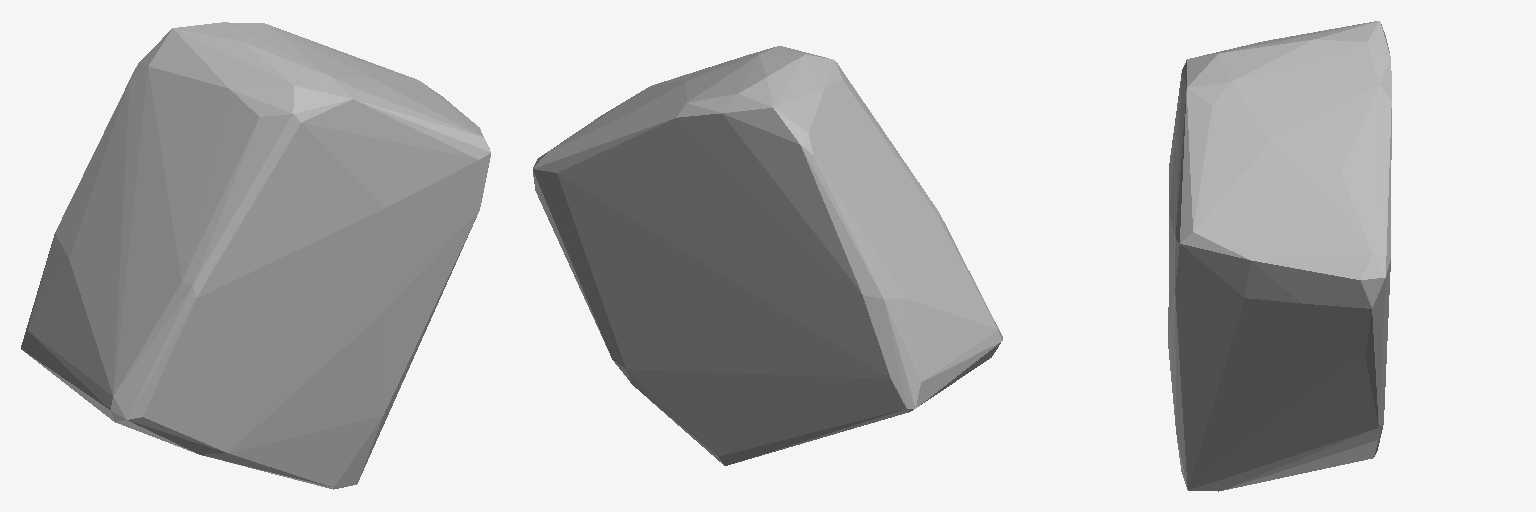
The robot description file, URDF, robot "root":
<robot name="root">
  <link name="link_rock8_convex_piece_0">
    <inertial>
      <origin rpy="0 0 0" xyz="0 0 0"/>
      <mass value="6.99E+05"/>
      <inertia ixx="-2.49E+08" ixy="-2.63E+07" ixz="1.72E+08" iyy="6.34E+08" iyz="5.44E+08" izz="7.29E+08"/>
    </inertial>
    <visual>
      <origin rpy="0 0 0" xyz="0 0 0"/>
      <geometry>
        <mesh filename="rock8_convex_piece_0.obj" scale="1.0000E+00 1.0000E+00 1.0000E+00"/>
      </geometry>
      <material name="">
        <color rgba="7.50E-01 7.50E-01 7.50E-01 1"/>
      </material>
    </visual>
    <collision>
      <origin rpy="0 0 0" xyz="0 0 0"/>
      <geometry>
        <mesh filename="rock8_convex_piece_0.obj" scale="1.0000E+00 1.0000E+00 1.0000E+00"/>
      </geometry>
    </collision>
  </link>
</robot>

--- Render facts (derived) ---
Views: 3 orthographic renders of the robot side by side, from view 1: azimuth 30°, elevation 25°; view 2: azimuth 150°, elevation 25°; view 3: azimuth 270°, elevation 25°.
Robot: root — 1 links, 0 joints (none); root link link_rock8_convex_piece_0; default pose: all joints at 0.
Visible links, largest first — view 1: link_rock8_convex_piece_0; view 2: link_rock8_convex_piece_0; view 3: link_rock8_convex_piece_0.
Link boxes in pixels (box(x1,y1,x2,y2)): link_rock8_convex_piece_0: box(21, 22, 490, 489); link_rock8_convex_piece_0: box(533, 46, 1002, 465); link_rock8_convex_piece_0: box(1168, 21, 1391, 491).
Bounding box of the posed robot: 145 × 65.91 × 139 m (x, y, z).
1 mesh visuals loaded from 1 distinct referenced files (1 OBJ).